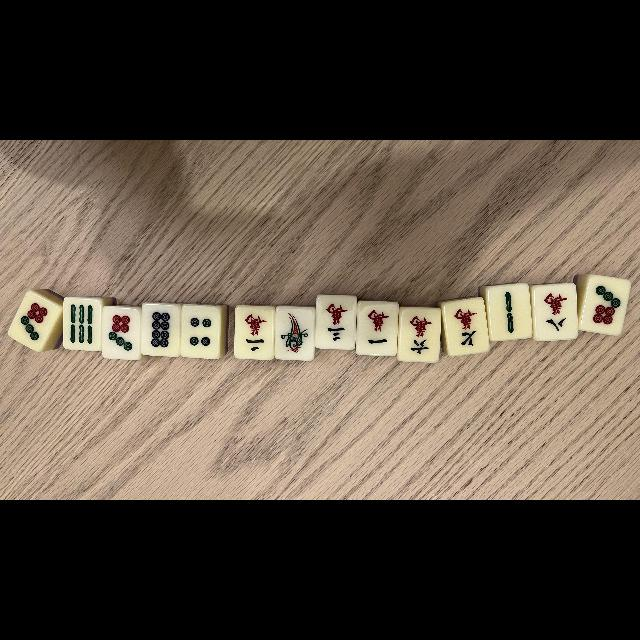b1: (277, 308, 313, 360)
b2: (488, 286, 530, 338)
b6: (62, 298, 100, 350)
c1: (357, 304, 397, 354)
c2: (236, 307, 272, 358)
c3: (318, 297, 354, 348)
c6: (399, 309, 438, 361)
c7: (444, 301, 488, 354)
c8: (534, 286, 576, 338)
d4: (182, 305, 220, 357)
d7: (584, 277, 626, 333), (12, 296, 56, 348), (102, 308, 138, 358)
d8: (143, 305, 180, 355)
